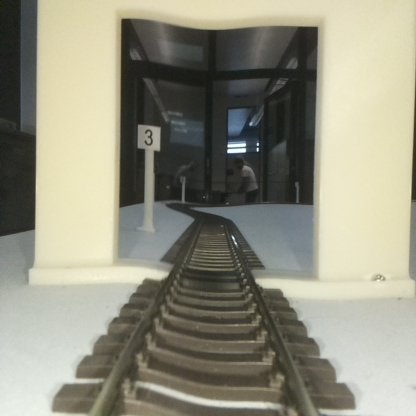white-info-3: (138, 127, 160, 228)
